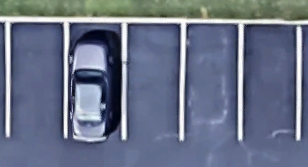Occupied: (65, 19, 124, 140)
Vacant: (7, 19, 66, 139), (182, 21, 241, 141), (124, 20, 182, 141), (241, 21, 299, 141)
